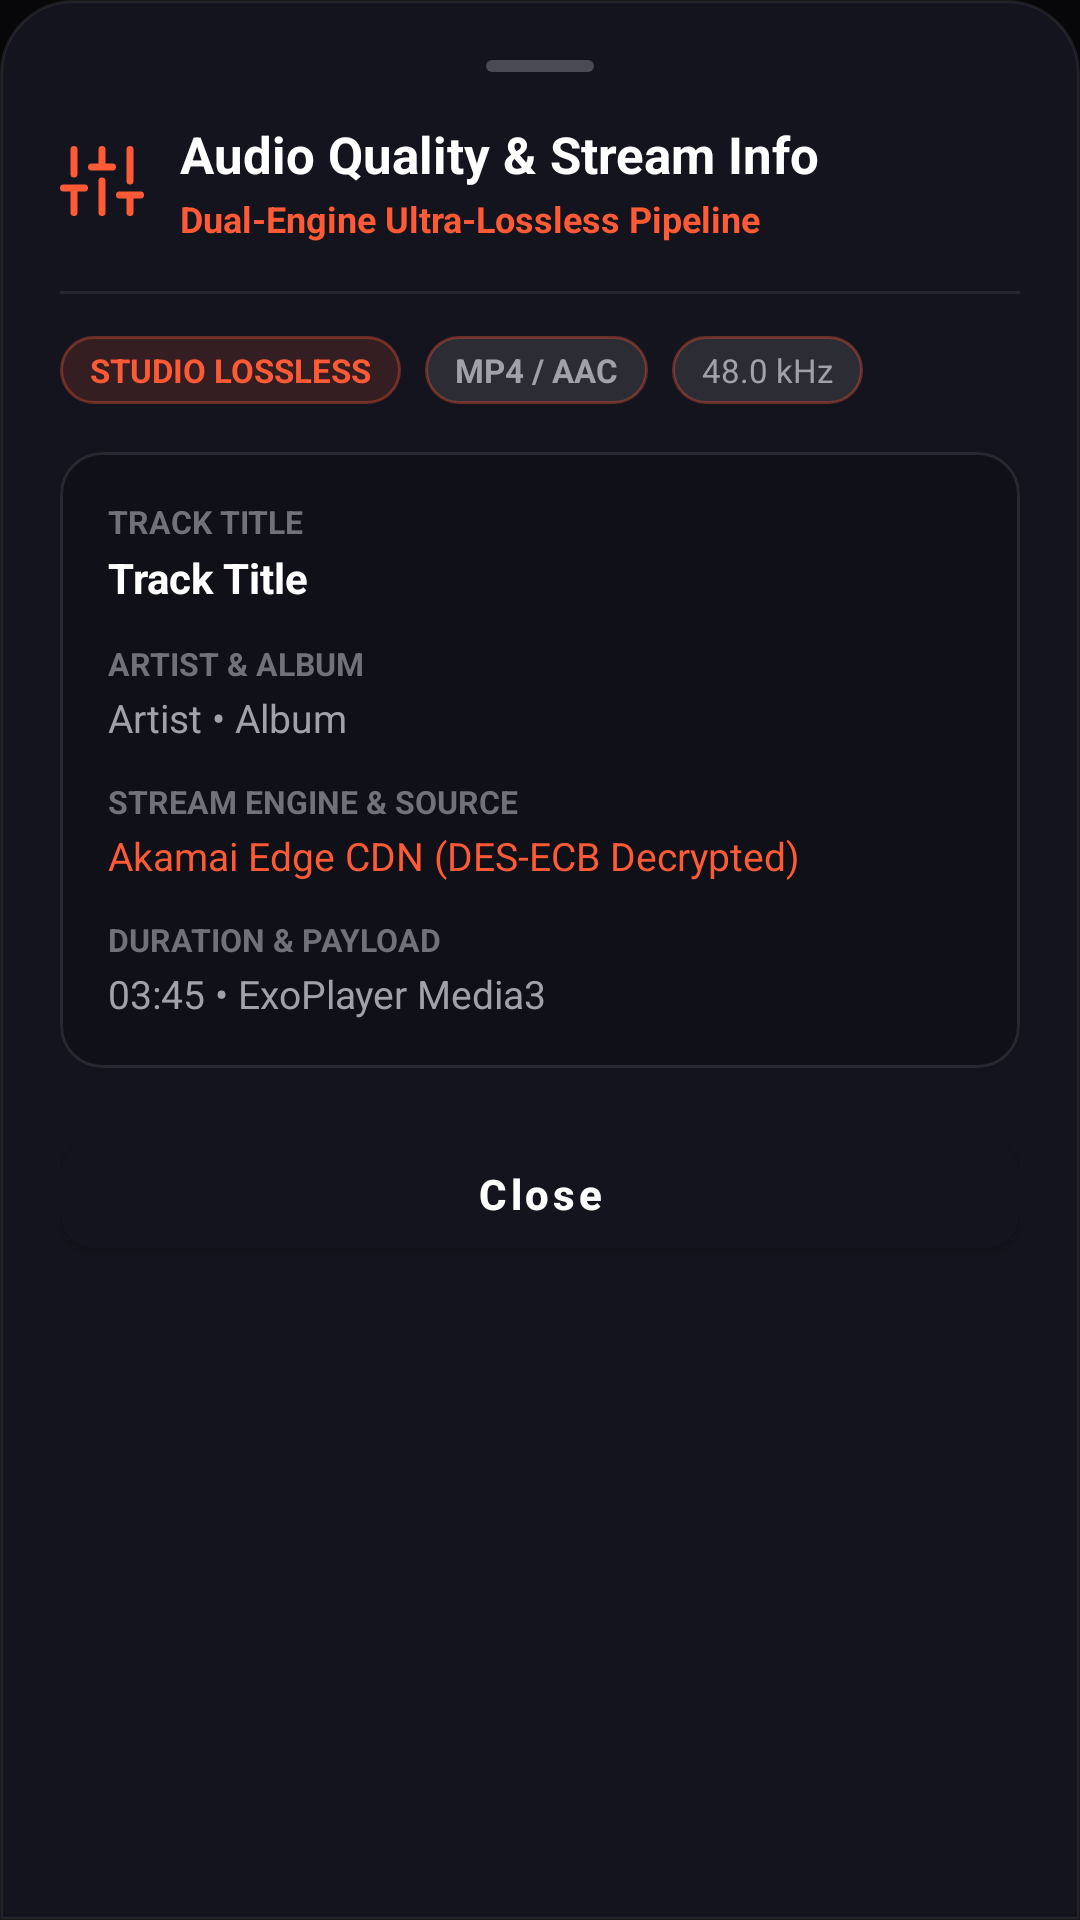

Where to tap for icons on this 1080 x 1920 app screen, as [x,y]:
equalizer: [102,181]
